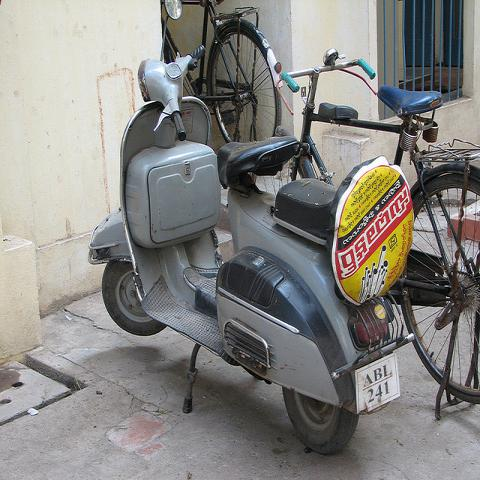motorcycle: (86, 0, 413, 449)
